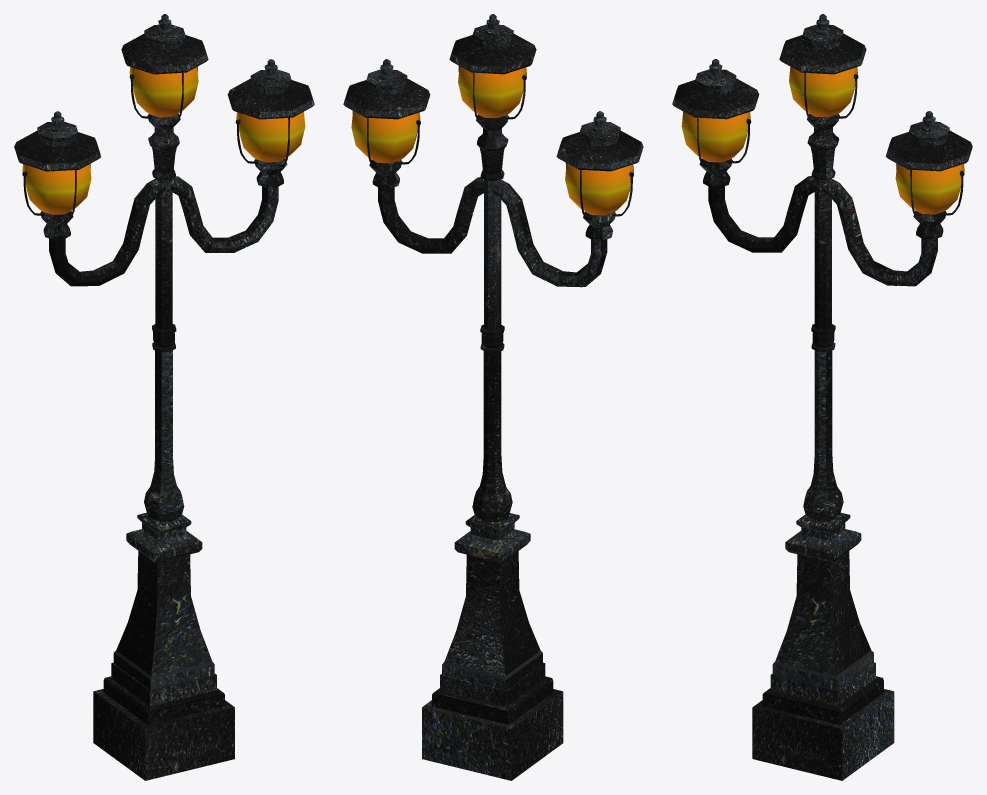
Rendered from textured lamp 9.fbx.
The picture shows the model from 3 angles, left to right: view 1: azimuth 30°, elevation 25°; view 2: azimuth 150°, elevation 25°; view 3: azimuth 330°, elevation 25°; orthographic projection.
Visible parts, largest first — view 1: Plane.005, Plane.009; view 2: Plane.005, Plane.009; view 3: Plane.005, Plane.009.
Part boxes in pixels (x1,y1,x2,y2): Plane.005: [14, 14, 314, 780]; Plane.009: [22, 67, 305, 214]; Plane.005: [343, 14, 643, 780]; Plane.009: [351, 66, 633, 215]; Plane.005: [672, 14, 972, 780]; Plane.009: [681, 67, 964, 214].
Bounding box in the file's own units: 190 × 460 × 58.62.
Materials: 2 (2 with a texture image).
